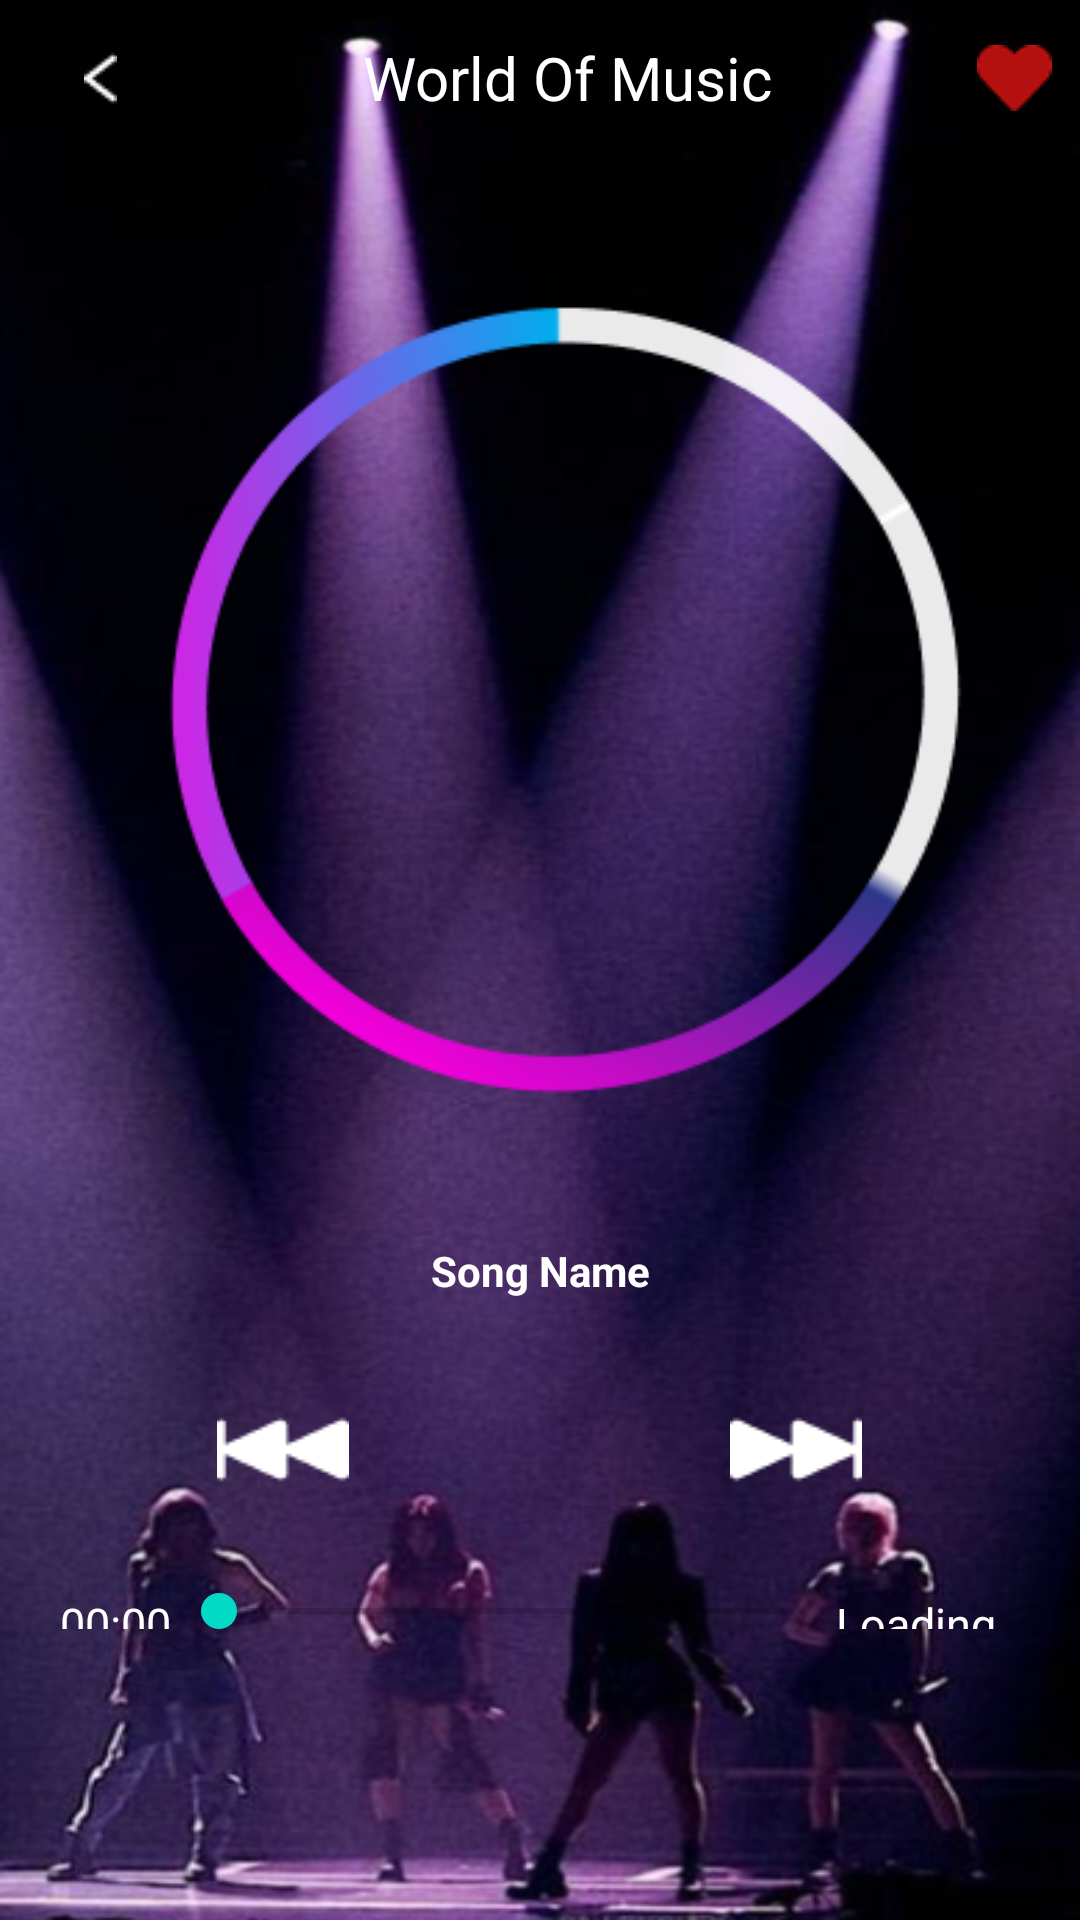

Icon click points for this 1080px x 1920px phone screenshot, format [x,y]:
Back: [100,78]
Favorite ♥: [1014,78]
